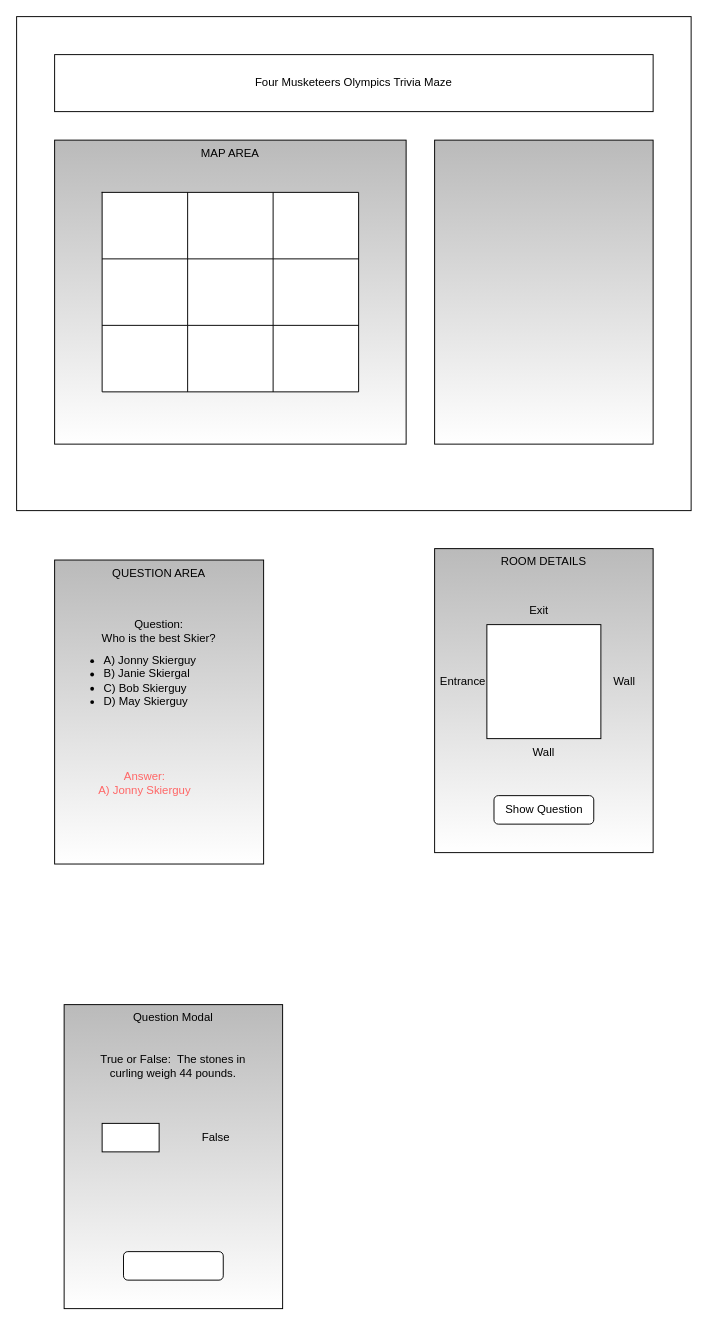
Some shapes in this 708 by 1325 pixel diagram are drawn without their labels. Here are the shapes that lost their labels. From the top down, the centre of each, then its label:
At point 543,291: "INFO FRAME".
At point 130,1137: "True".
At point 173,1265: "Submit".
